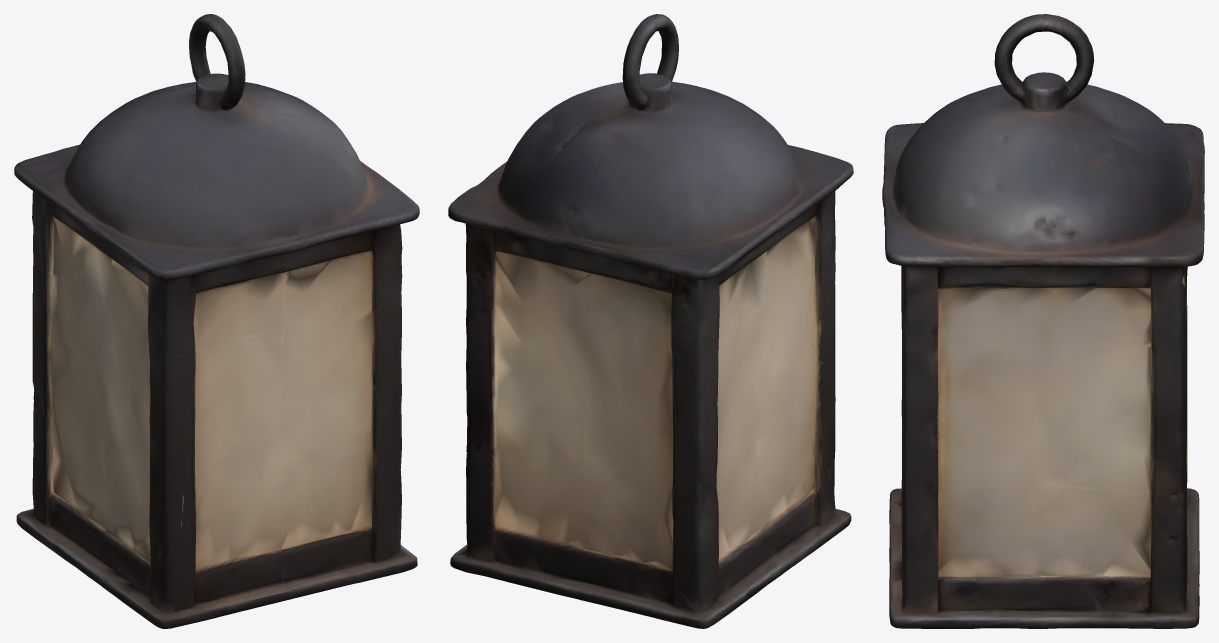
File: stratum-lantern-web-256.glb
3 views of the same model, side by side, from view 1: azimuth 30°, elevation 25°; view 2: azimuth 150°, elevation 25°; view 3: azimuth 270°, elevation 25° (orthographic). The views are drawn at different scales.
Visible parts, largest first — view 1: tripo_node_091f83d7-ba88-47d6-b014-1d84d2254a40; view 2: tripo_node_091f83d7-ba88-47d6-b014-1d84d2254a40; view 3: tripo_node_091f83d7-ba88-47d6-b014-1d84d2254a40.
Part boxes in pixels (box(x1,y1,x2,y2)): tripo_node_091f83d7-ba88-47d6-b014-1d84d2254a40: box(14, 14, 419, 628); tripo_node_091f83d7-ba88-47d6-b014-1d84d2254a40: box(448, 14, 853, 628); tripo_node_091f83d7-ba88-47d6-b014-1d84d2254a40: box(882, 14, 1204, 628).
Size of the model in its own units: 0.5349 by 0.9998 by 0.5326.
1 material, 1 textured.
